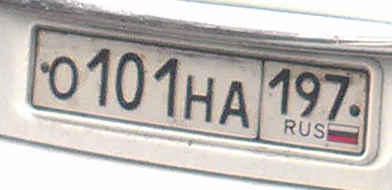character: (115, 47, 148, 115), (217, 75, 252, 133), (181, 71, 216, 123), (154, 56, 181, 120), (47, 55, 82, 103), (87, 46, 114, 108), (323, 68, 351, 123), (295, 66, 321, 119), (267, 64, 292, 117)
